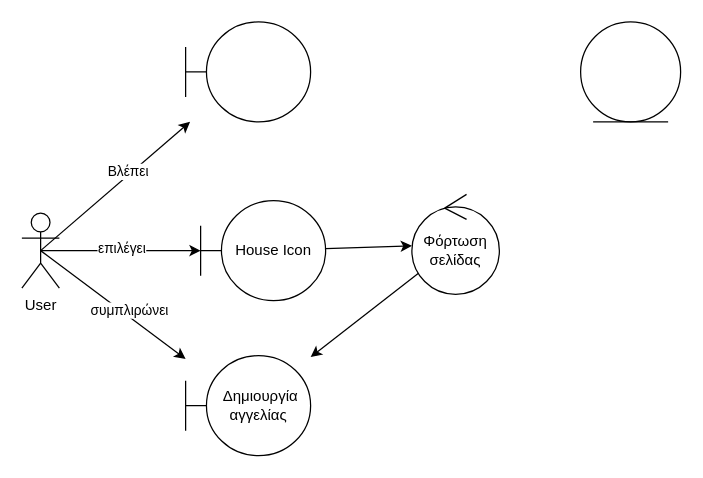
The diagram is 703 pixels wide and 478 high, and some of its shapes have lost their labels. Each missing label, with the centre of its shape:
DataBase: the point at 630,71
Menu Bar: the point at 247,71
